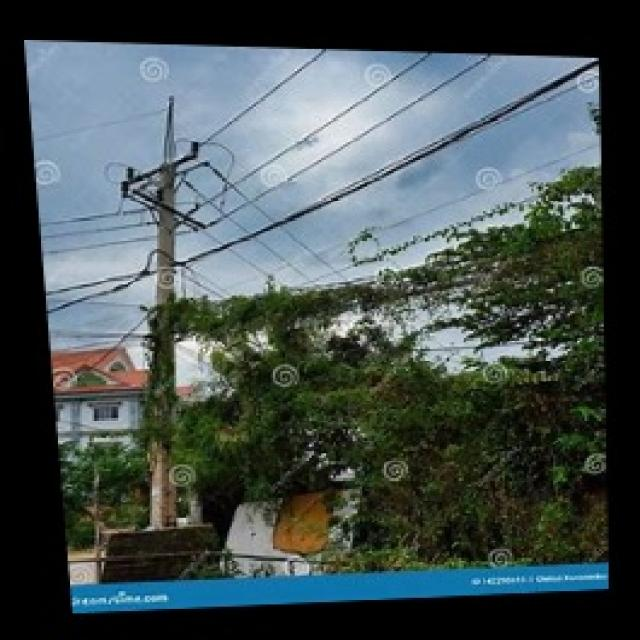critical vegetation: (154, 248, 604, 427)
